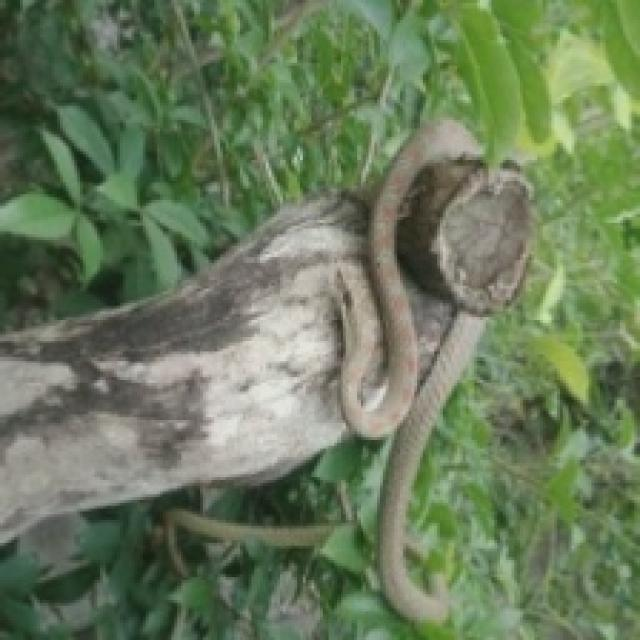paradise tree snake: (337, 120, 531, 620)
